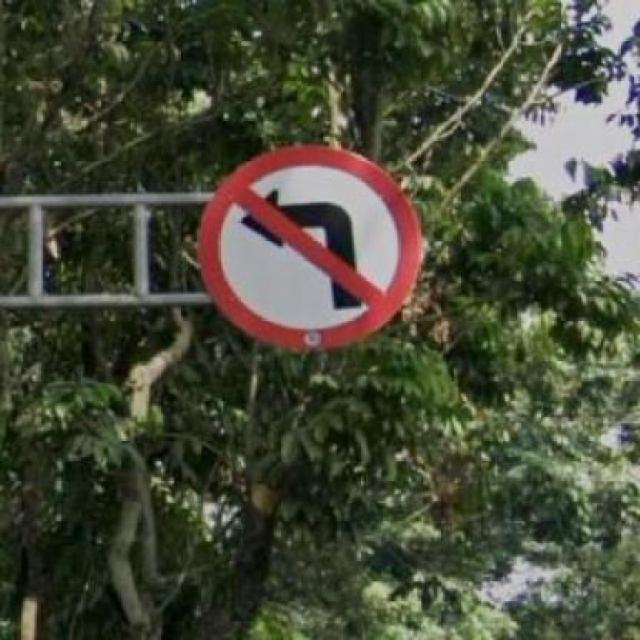left turn prohibited: (199, 140, 427, 354)
